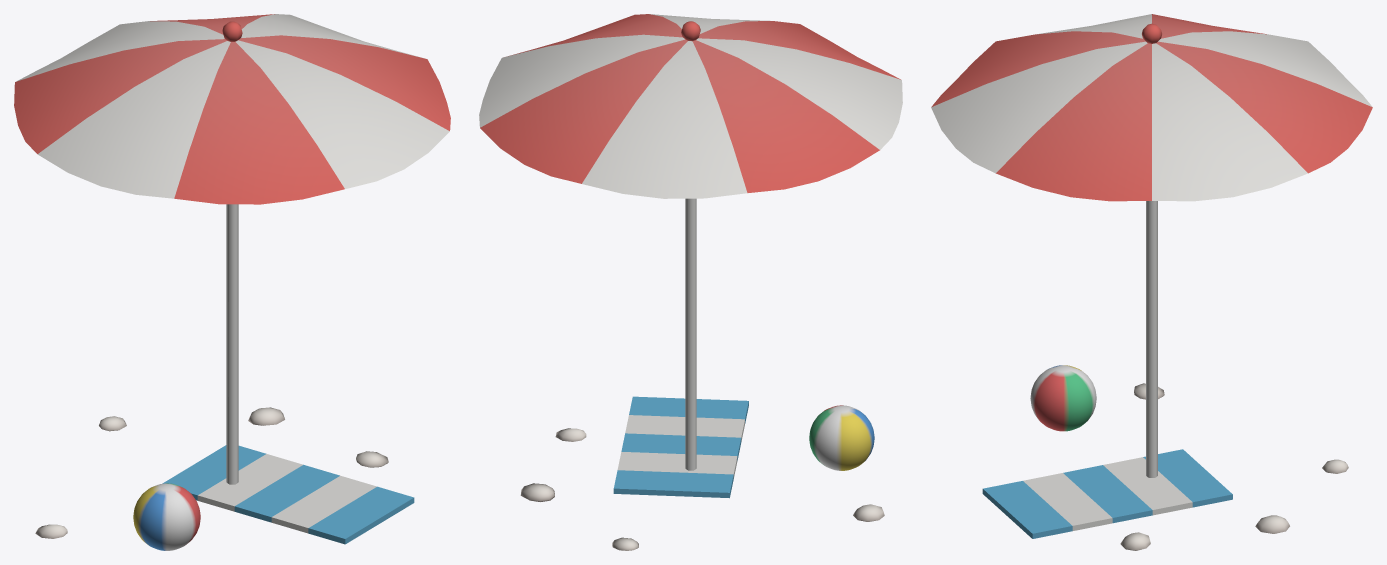
The model's file is beach_umbrella_a.glb.
3 renders of one model, left to right at view 1: azimuth 30°, elevation 25°; view 2: azimuth 150°, elevation 25°; view 3: azimuth 270°, elevation 25°, orthographic. The views are drawn at different scales.
Parts seen in each view (by area): view 1: body; view 2: body; view 3: body.
Part boxes in pixels (x1,y1,x2,y2): body: (14,14,450,550); body: (479,14,902,550); body: (931,14,1372,550).
Size of the model in its own units: 0.6009 by 0.684 by 0.6.
